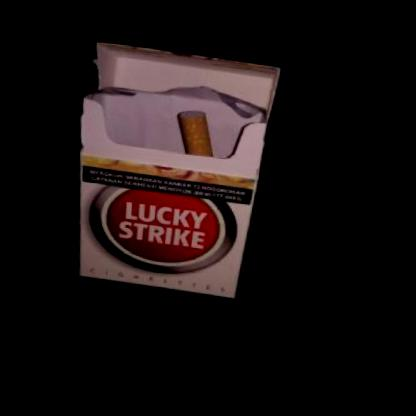objects: (66, 42, 278, 302)
